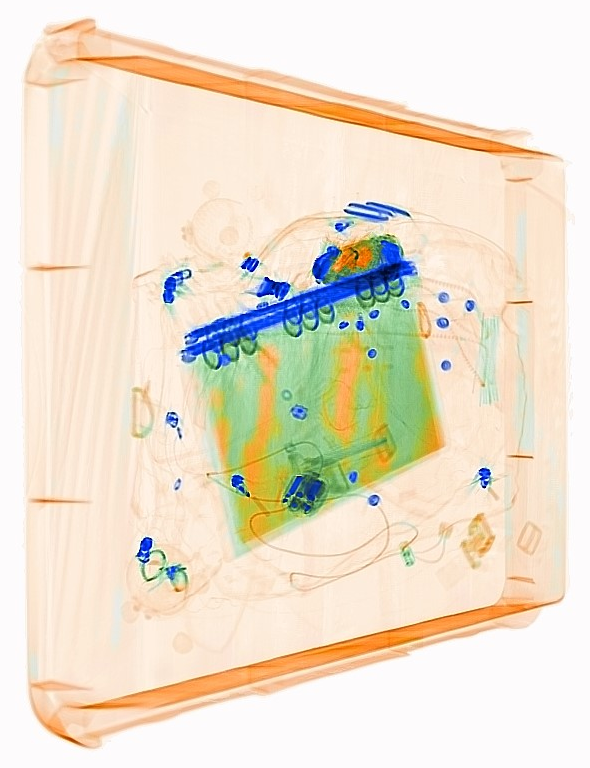FeLighter: (292, 225, 410, 317)
